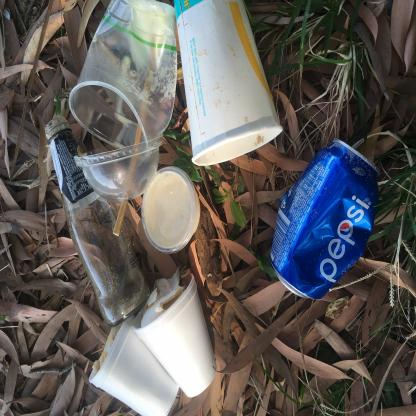trash: (131, 85, 312, 242), (61, 59, 233, 207), (180, 227, 312, 385), (10, 173, 117, 298), (0, 109, 71, 251), (84, 352, 212, 416), (119, 186, 197, 274)
